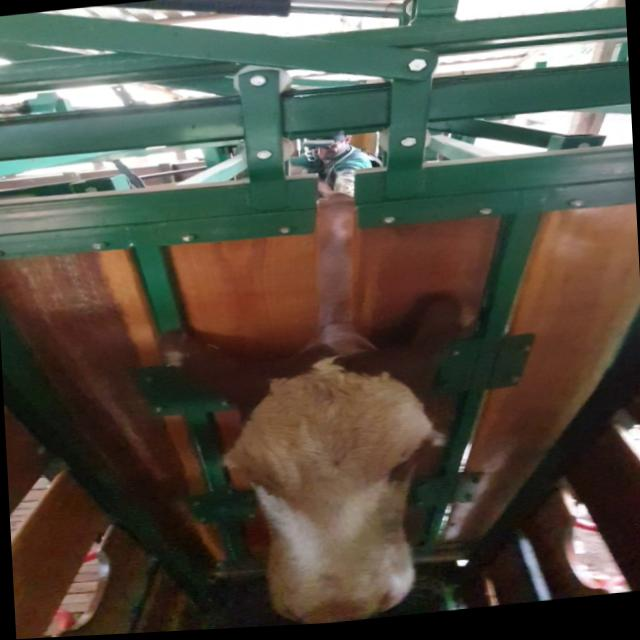cowFace: (225, 356, 436, 631)
